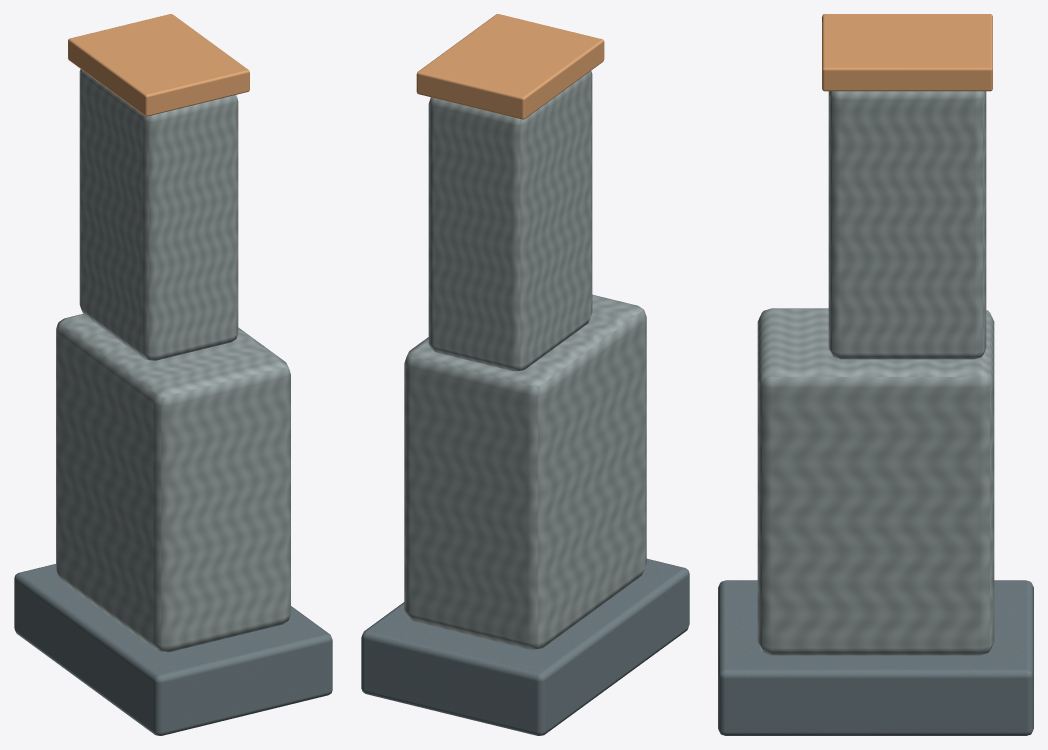
File: dwarven-runeforge-dungeon-dwarven-runeforge-dungeon-bu-1e337ea4__28592.glb
3 views of the same model, side by side, from view 1: azimuth 30°, elevation 25°; view 2: azimuth 150°, elevation 25°; view 3: azimuth 270°, elevation 25° (orthographic). The views are drawn at different scales.
Parts seen in each view (by area): view 1: dwarven-runeforge-dungeon-buttress; view 2: dwarven-runeforge-dungeon-buttress; view 3: dwarven-runeforge-dungeon-buttress.
Part boxes in pixels (<box>): dwarven-runeforge-dungeon-buttress: <box>14,14,332,735</box>; dwarven-runeforge-dungeon-buttress: <box>361,14,689,735</box>; dwarven-runeforge-dungeon-buttress: <box>718,14,1033,735</box>.
Size of the model in its own units: 0.85 by 2.73 by 1.2.
3 materials, 2 textured.
